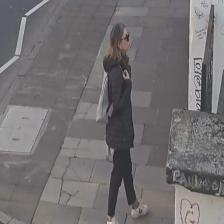person: (102, 23, 148, 224)
